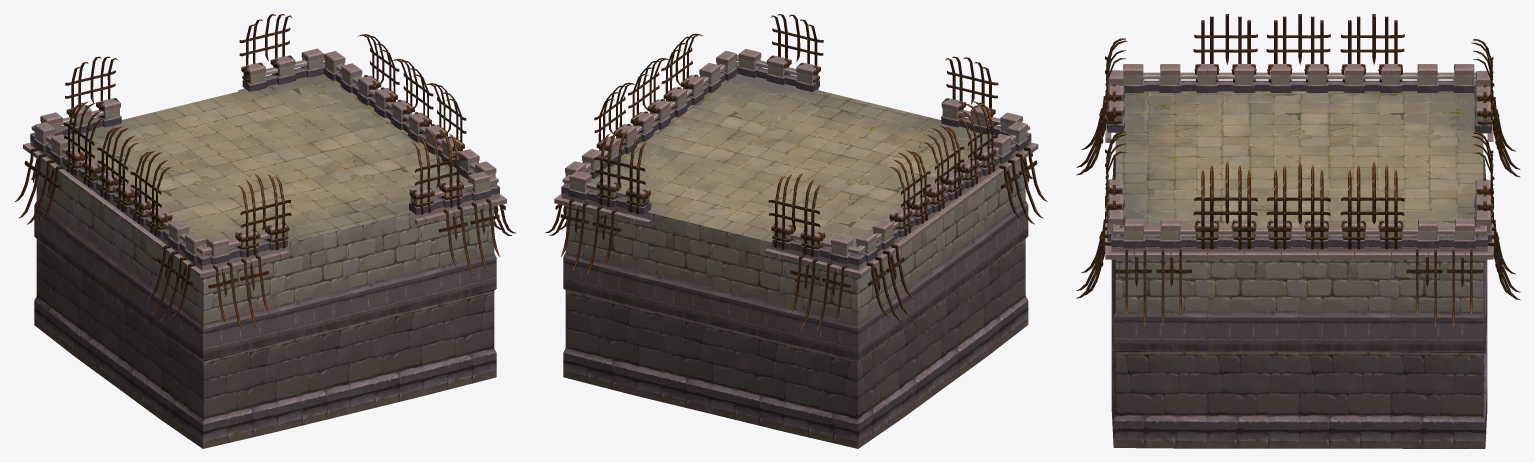
The model's file is idle_ground_20_02.fbx.
The picture shows the model from 3 angles, left to right: view 1: azimuth 30°, elevation 25°; view 2: azimuth 150°, elevation 25°; view 3: azimuth 270°, elevation 25°; orthographic projection. The views are drawn at different scales.
Parts seen in each view (by area): view 1: pingtai20_02; view 2: pingtai20_02; view 3: pingtai20_02.
Part boxes in pixels (x1,y1,x2,y2): pingtai20_02: (15,14,516,448); pingtai20_02: (545,14,1047,448); pingtai20_02: (1076,14,1520,448).
Size of the model in its own units: 2429 by 1688 by 2417.
1 material, 1 textured.
